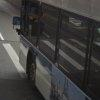Bus: (11, 2, 97, 99)
